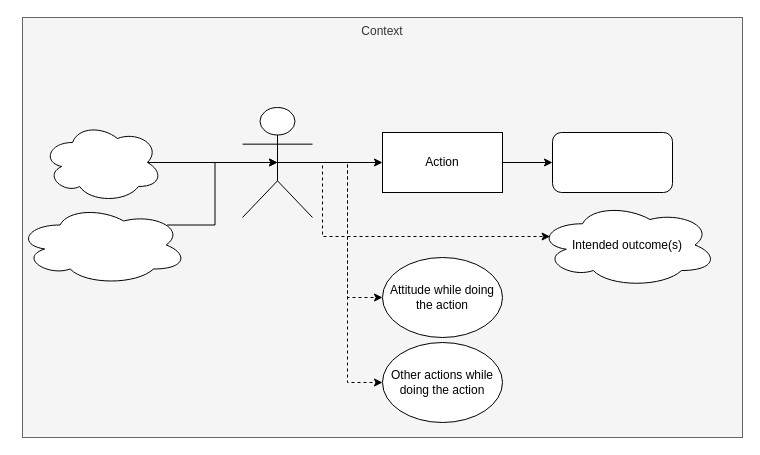
The diagram is 760 pixels wide and 455 high, and some of its shapes have lost their labels. Each missing label, with the centre of its shape:
"Actual outcome(s)" belongs at point 612,162.
"Contextual pressures/influences" belongs at point 102,244.
"Motives" belongs at point 102,162.
